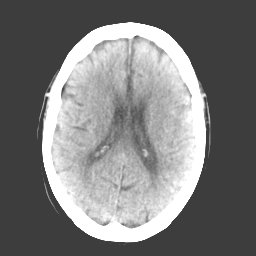ischemic: (152, 131, 165, 153)
